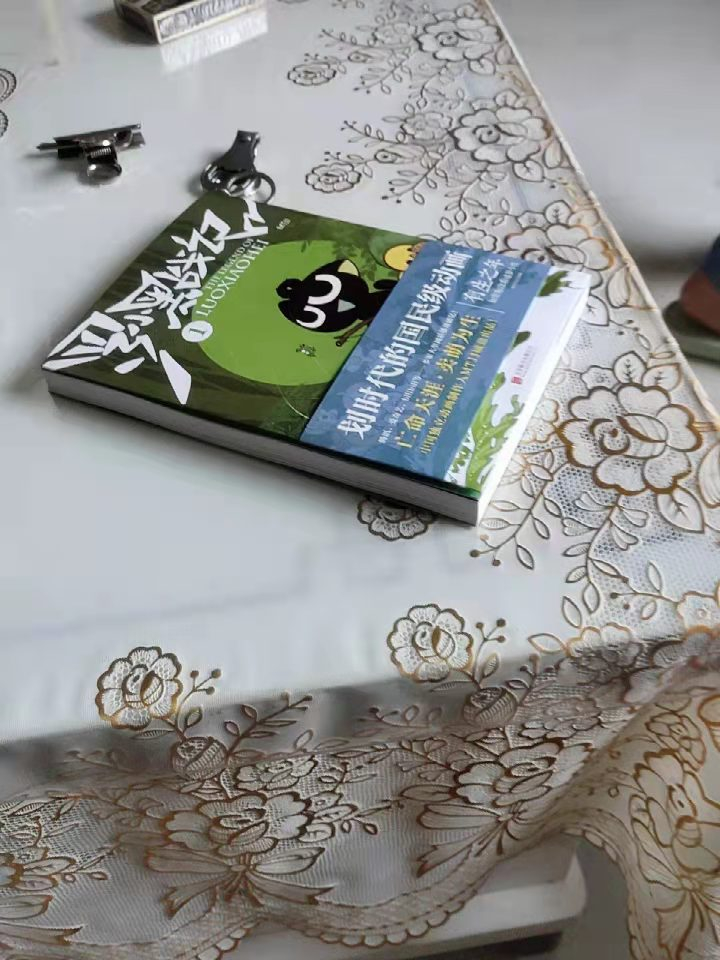book: (40, 185, 592, 529)
